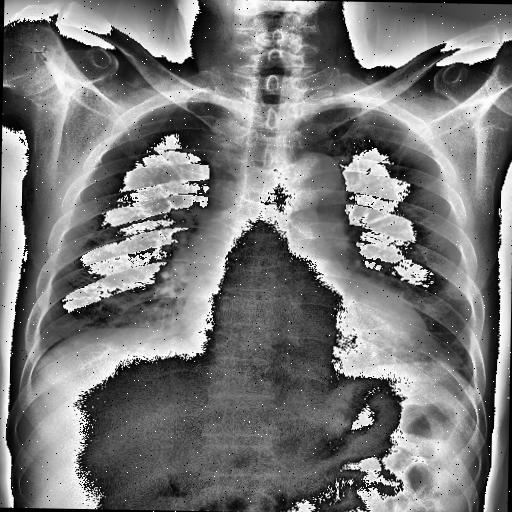0- Aortic enlargement: (276, 146, 351, 223), (276, 150, 348, 224), (278, 150, 342, 220)
3- Cardiomegaly: (178, 290, 440, 384), (178, 270, 438, 364), (181, 283, 439, 369)
